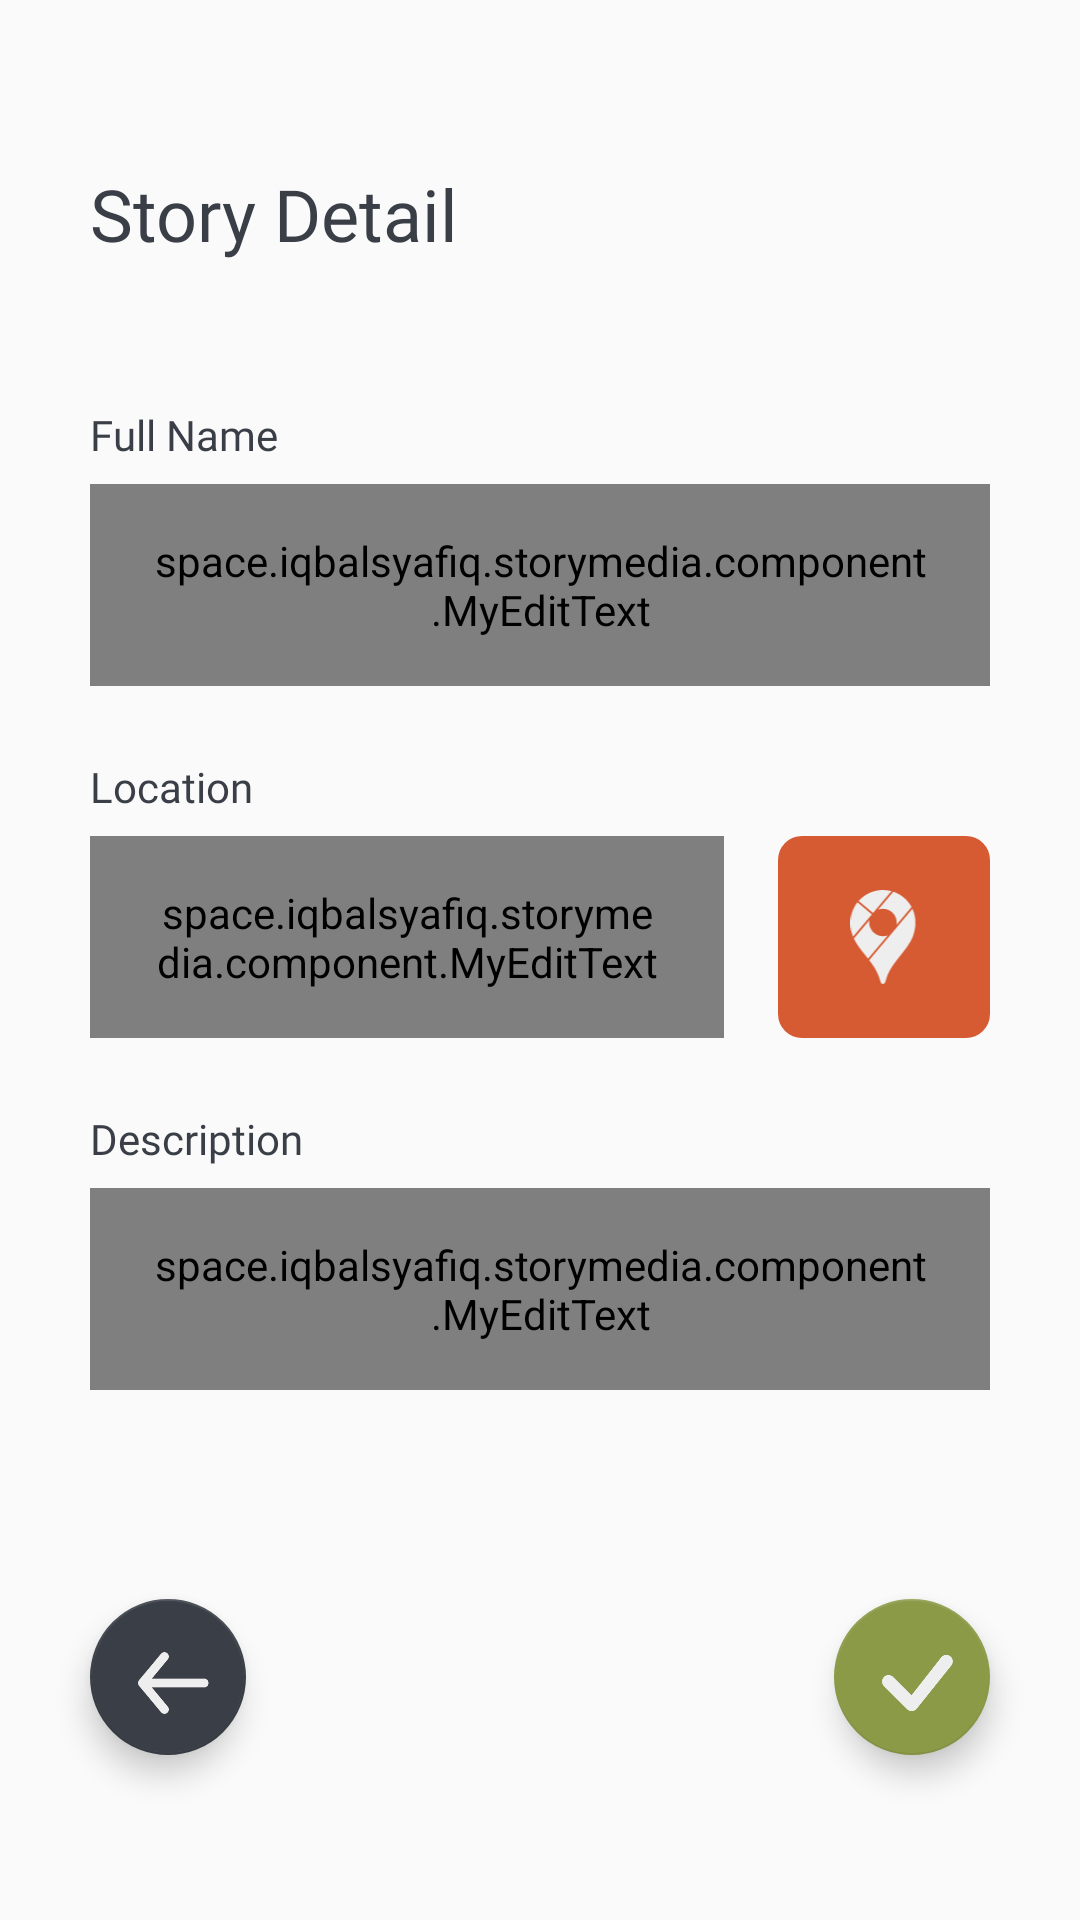

Point at icon controls on the screen. Image size 1080*1920, points as (x,y).
back: (168,1677)
confirm: (912,1677)
